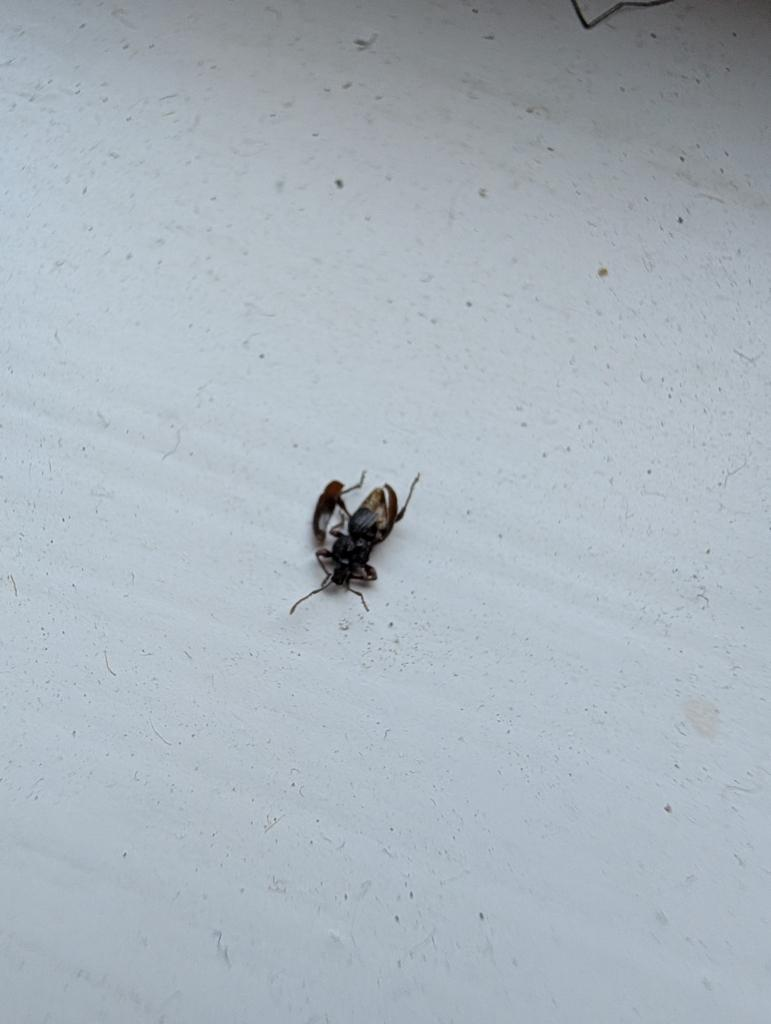weevils: (270, 454, 453, 659)
